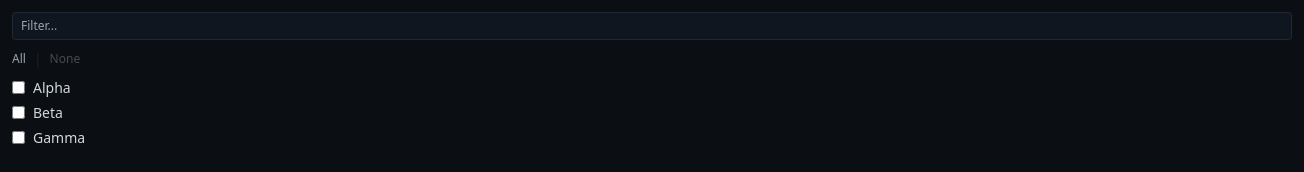
Test: CheckboxGroup — filterable › clear-filter button appears when filter has value + clears it
Type "alp" into the field with placeholder "Filter..." at (652, 26), box [12, 12, 1292, 40]
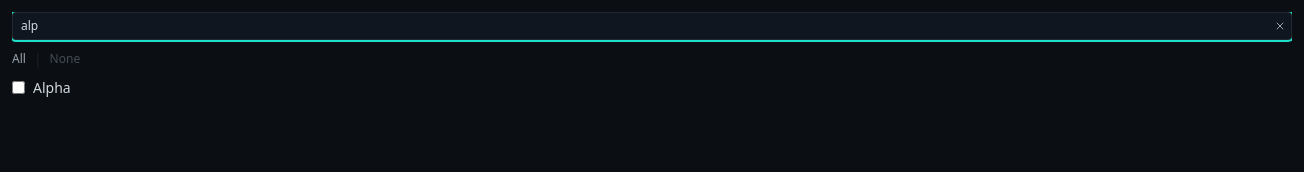
Click the button named "Clear filter" at (1280, 26), box [1272, 18, 1288, 34]
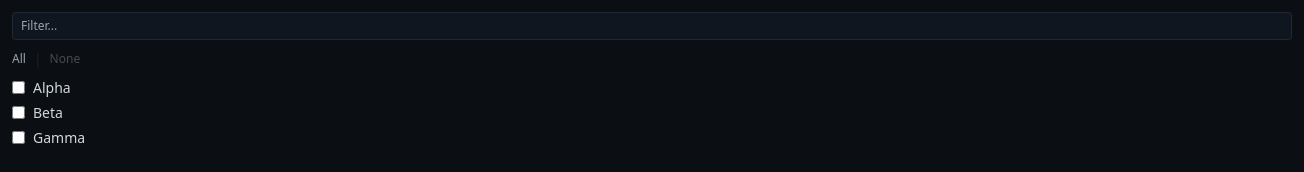
Expected: the field with placeholder "Filter..." is empty, [12, 12, 1292, 40]
